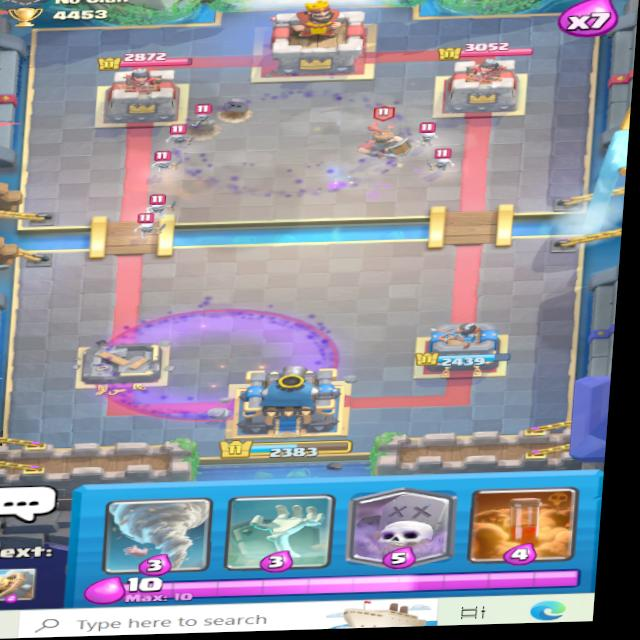graveyard: (95, 294, 352, 430)
royal-recruits: (355, 107, 422, 163)
skeleton: (134, 209, 169, 240), (409, 121, 447, 149), (143, 192, 180, 219), (162, 122, 199, 149), (187, 102, 223, 129), (146, 149, 188, 172), (426, 150, 457, 171)
